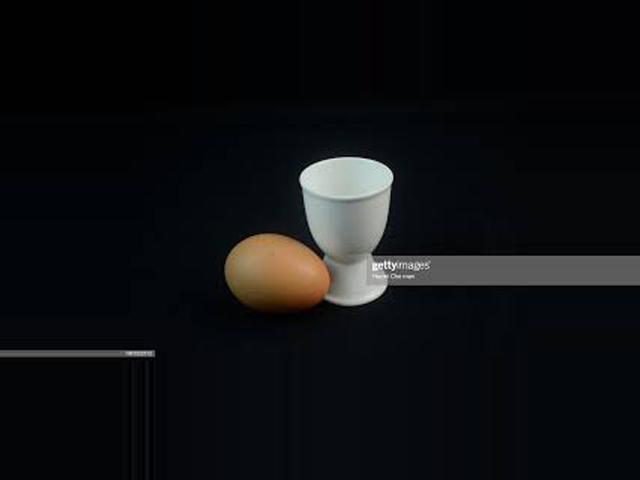egg: (226, 233, 330, 308)
